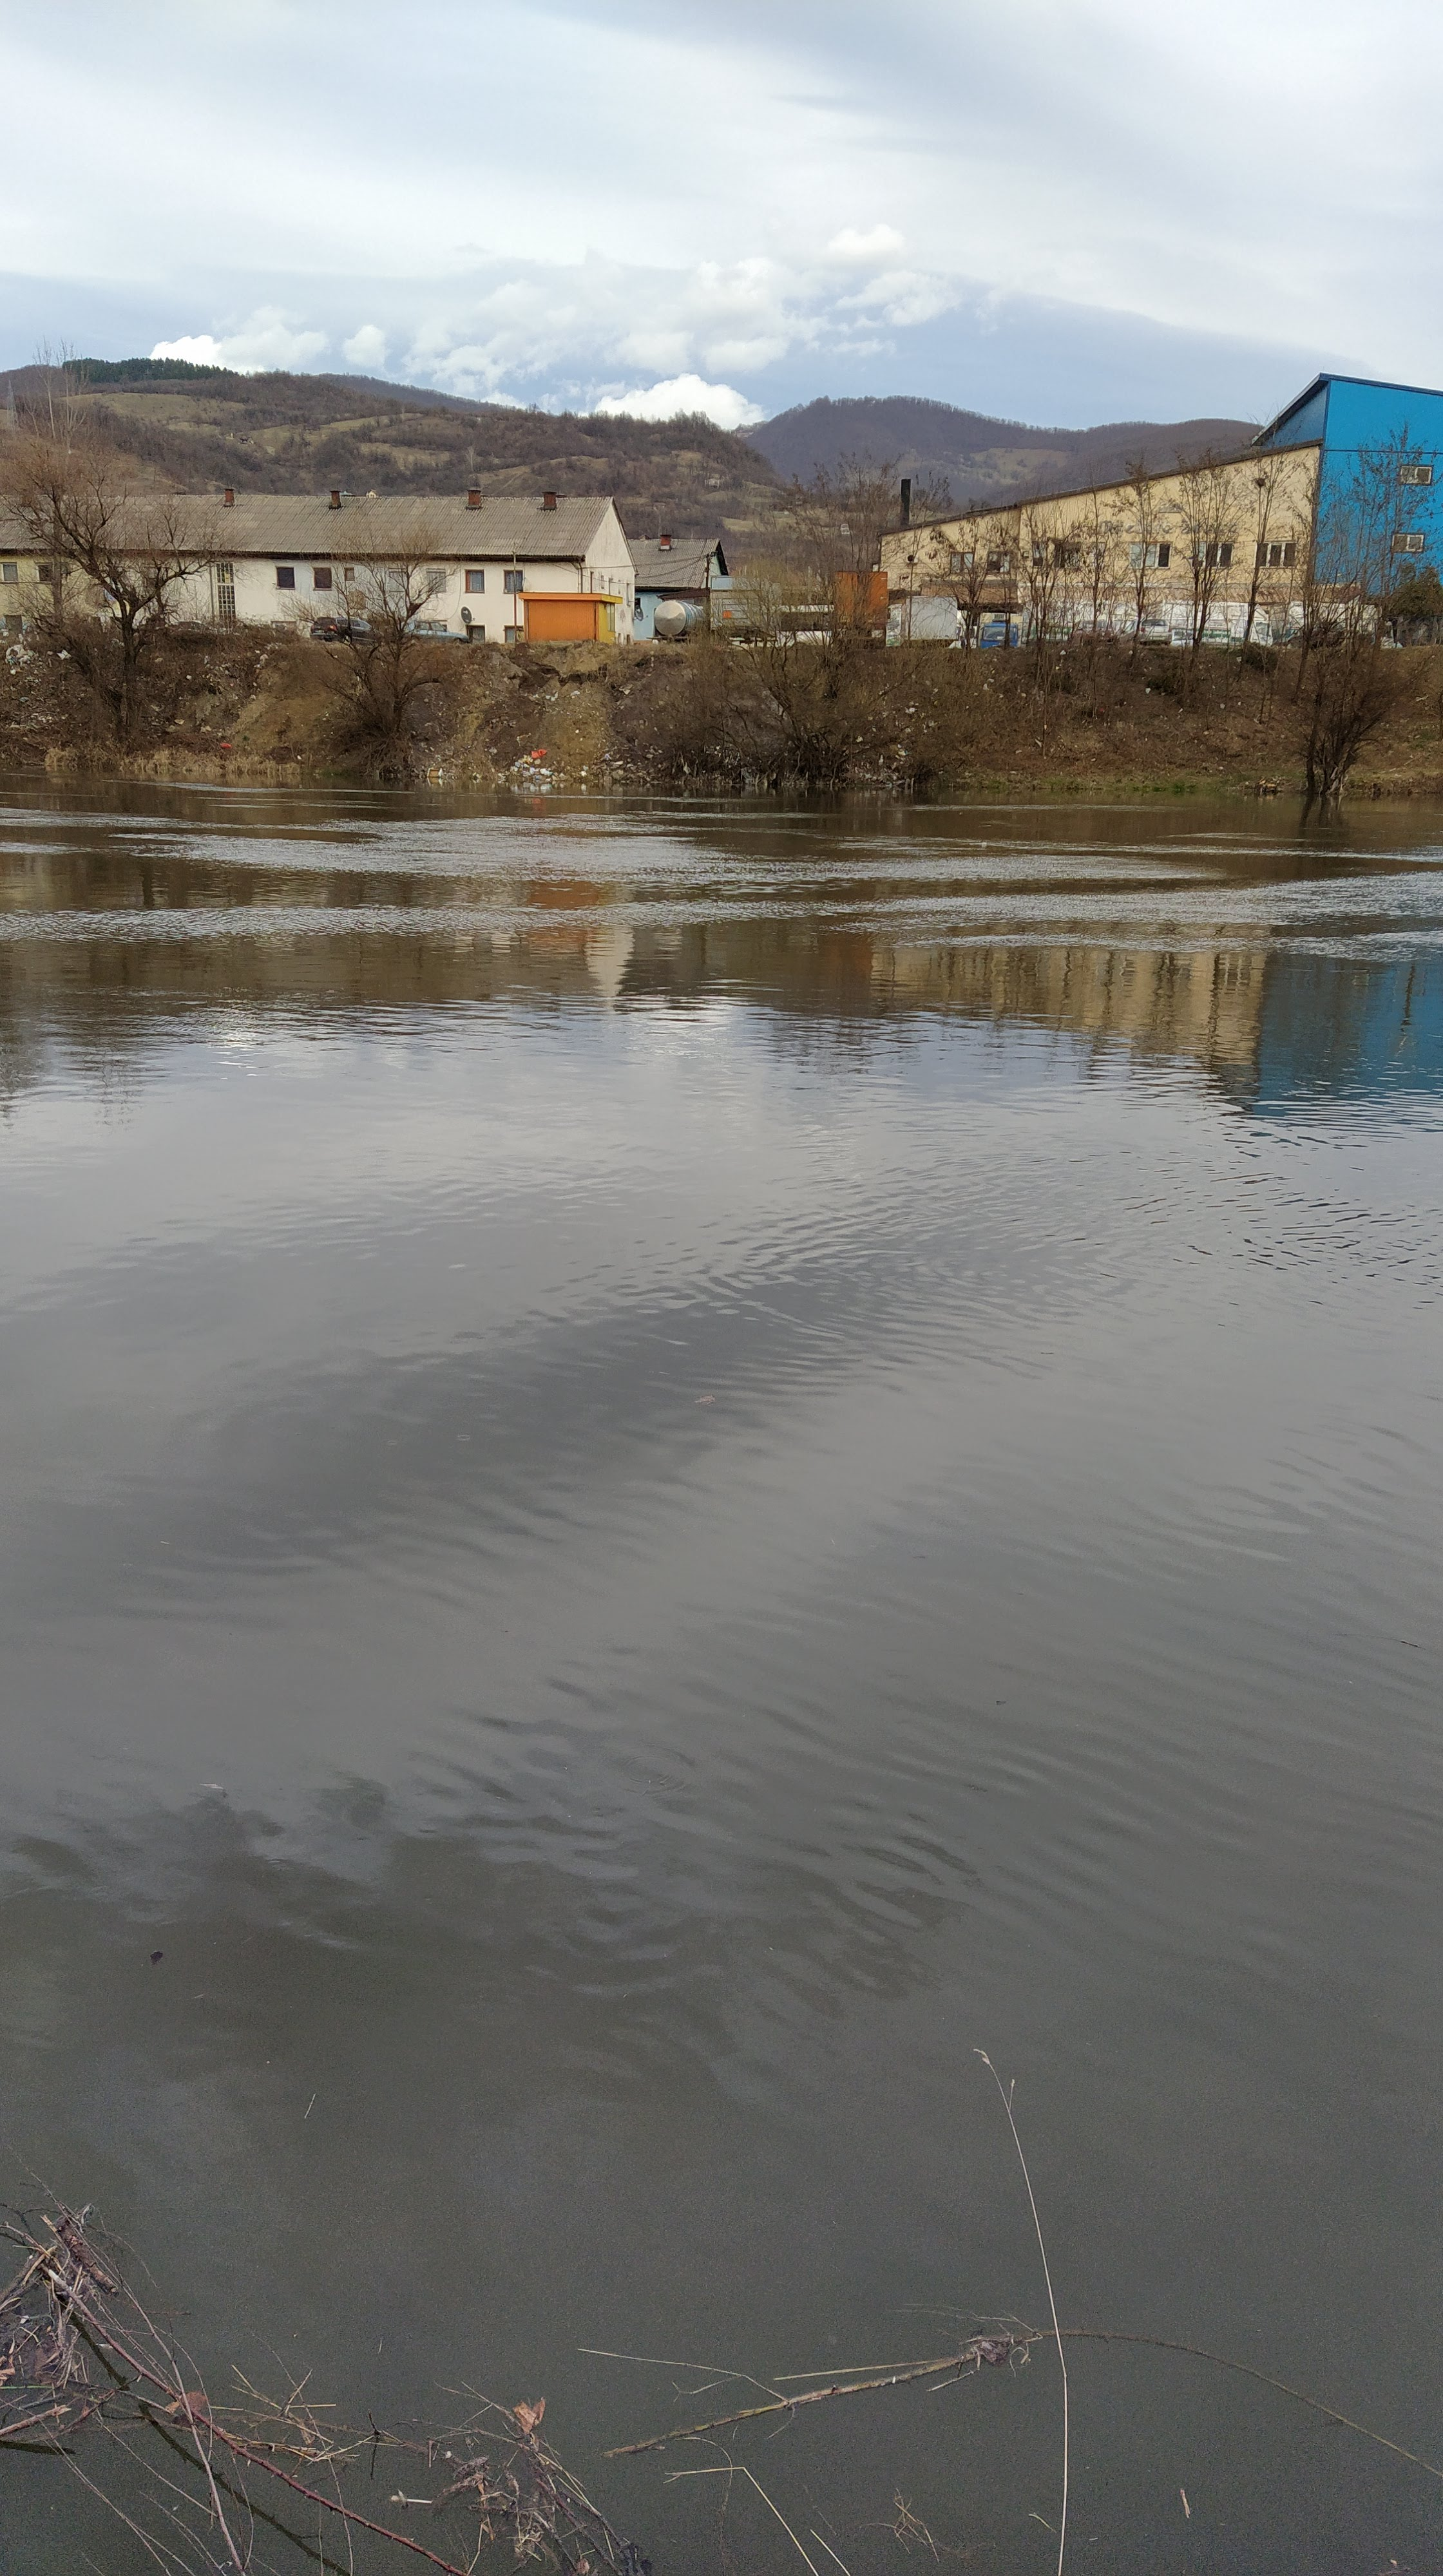Plastic Bottle: (981, 842, 986, 847)
